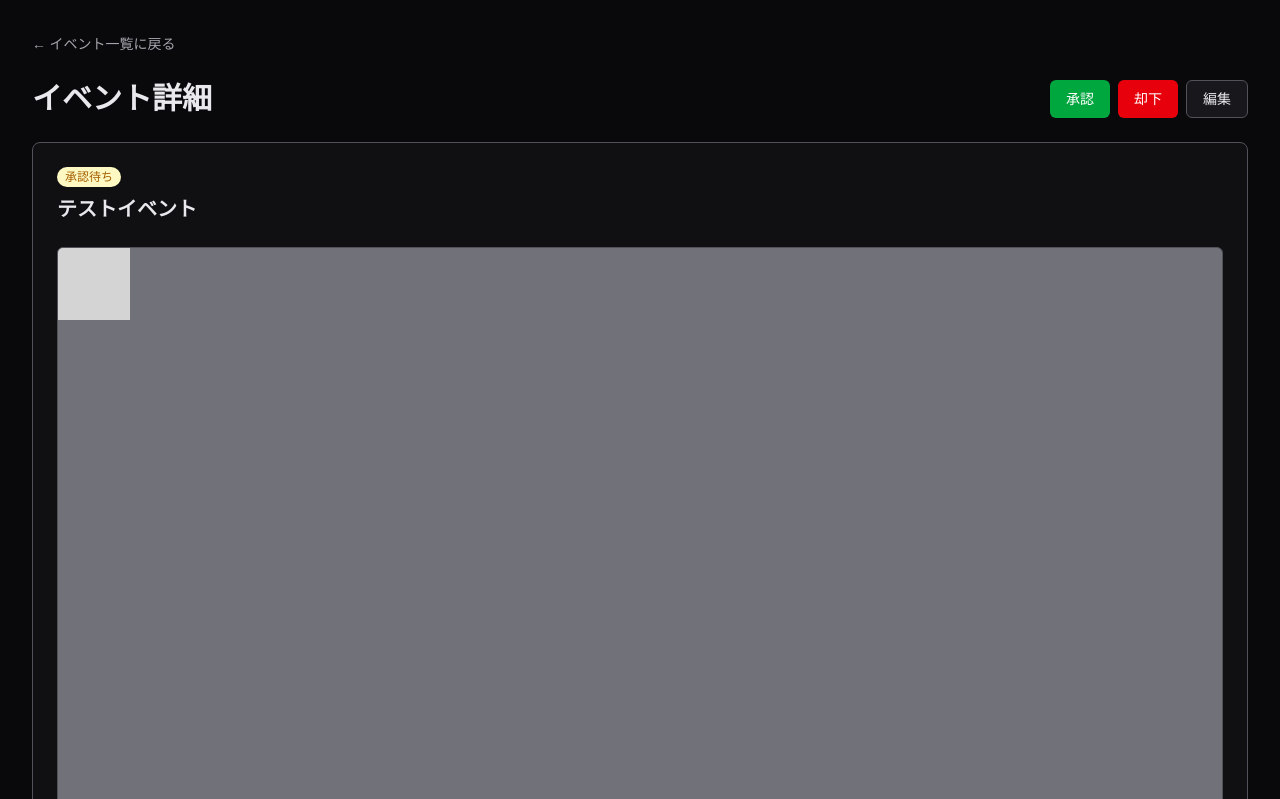
Test: AdminEventDetailPage › 編集ボタンをクリックすると、編集モードになる
The width and height of the screenshot is (1280, 799).
Step 1. Click the button "編集" → (1217, 99), box left=1186, top=80, right=1248, bottom=118
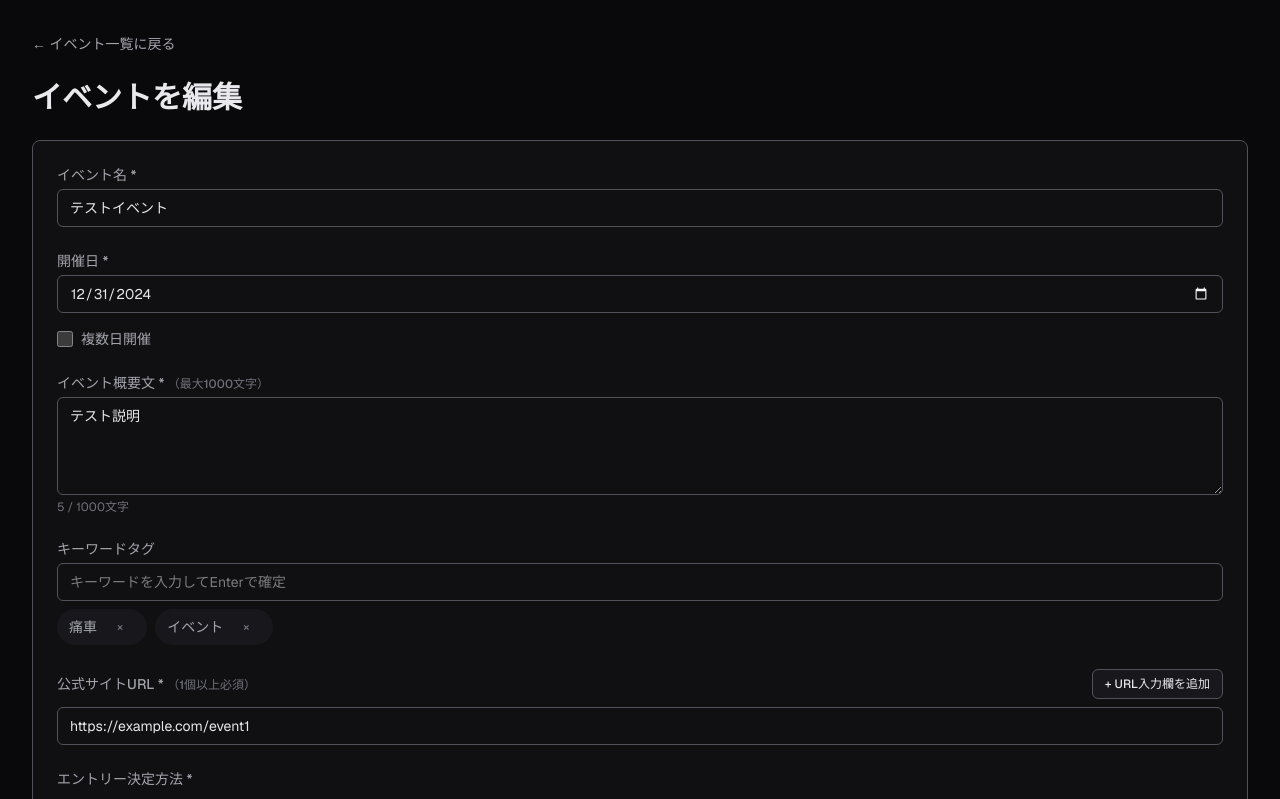
Expected: the heading "イベントを編集" is shown, left=32, top=80, right=242, bottom=116
